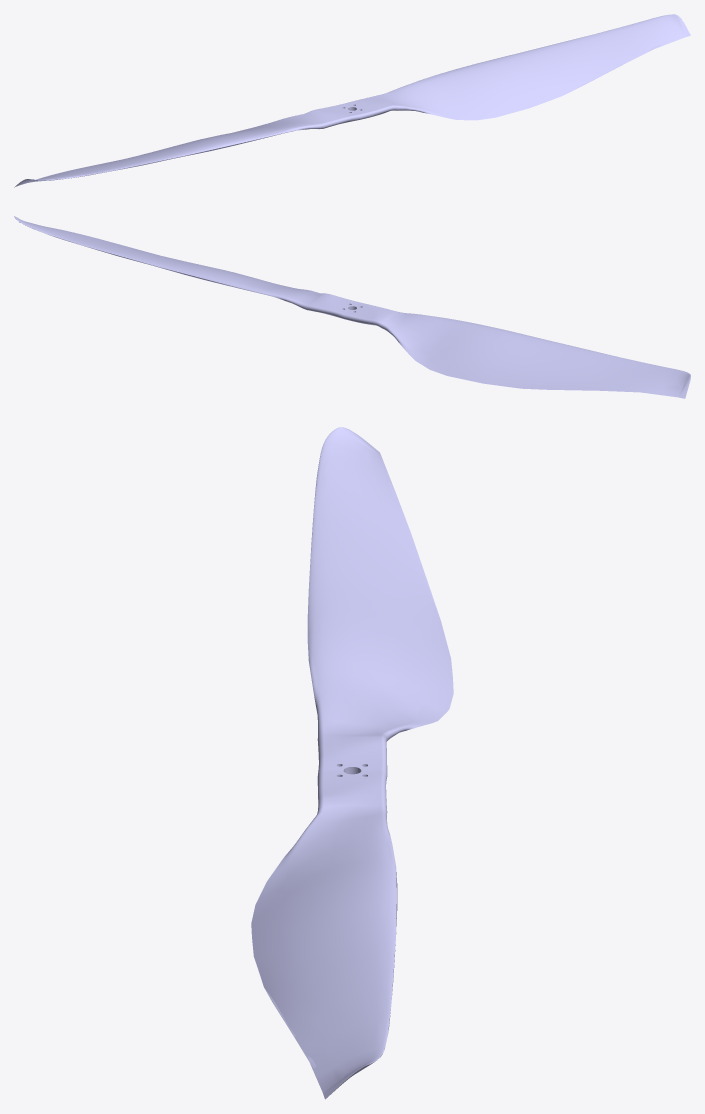
File: t-motor-40x13_CCW v1.fbx
3 views of the same model, one above another, from view 1: azimuth 30°, elevation 25°; view 2: azimuth 150°, elevation 25°; view 3: azimuth 270°, elevation 25° (orthographic). The views are drawn at different scales.
Visible parts, largest first — view 1: Body1; view 2: Body1; view 3: Body1.
Part boxes in pixels (x1,y1,x2,y2): Body1: (14,14,690,187); Body1: (14,216,690,398); Body1: (251,427,453,1099).
Size of the model in its own units: 1036 by 46.4 by 137.
